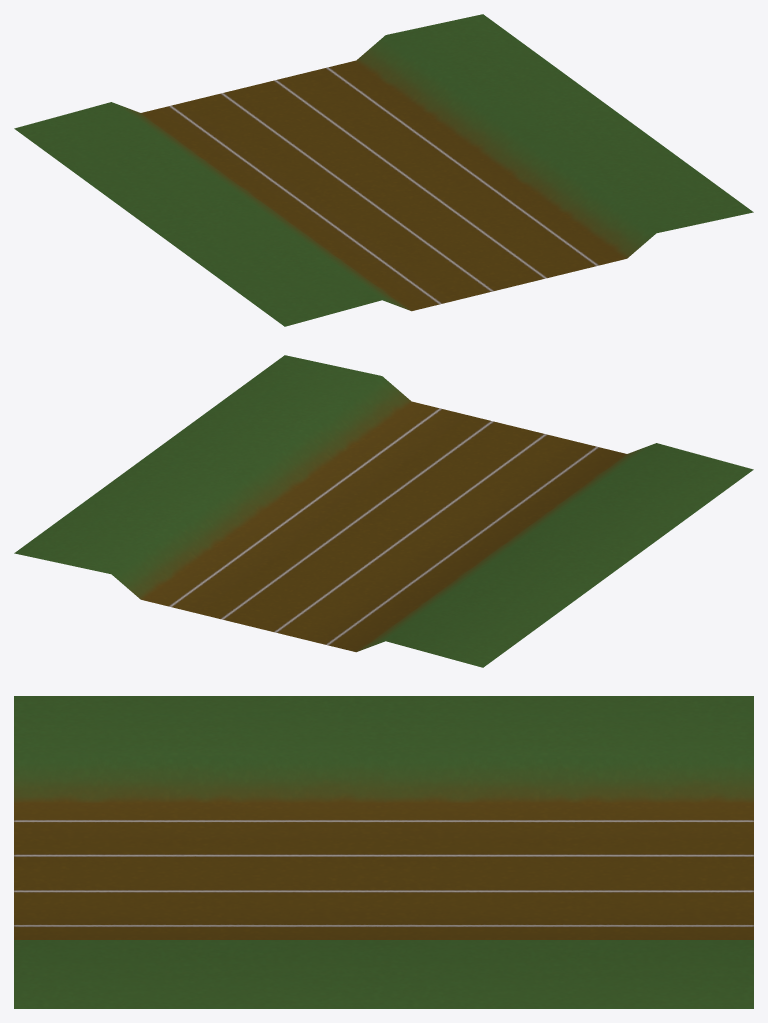
Rendered from New_Track.fbx.
3 views of the same model, one above another, from view 1: azimuth 30°, elevation 25°; view 2: azimuth 150°, elevation 25°; view 3: azimuth 270°, elevation 25° (orthographic). The views are drawn at different scales.
Parts seen in each view (by area): view 1: Track; view 2: Track; view 3: Track.
Boxes of the visible parts, bbox=[...] form: Track: bbox=[14, 14, 753, 326]; Track: bbox=[14, 355, 753, 667]; Track: bbox=[14, 696, 753, 1008].
Bounding box in the file's own units: 3000 × 111 × 3000.
Materials: 1 (1 with a texture image).
